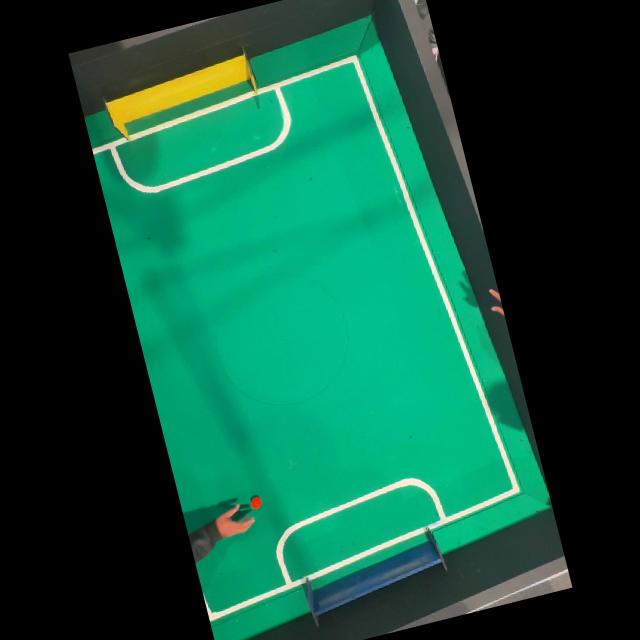ball: (250, 495, 261, 508)
goal: (305, 527, 447, 626), (105, 52, 257, 139)
